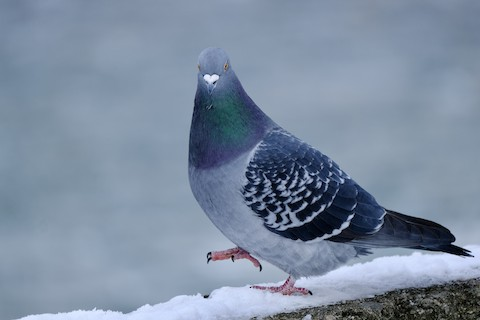pigeon: (180, 44, 473, 297)
